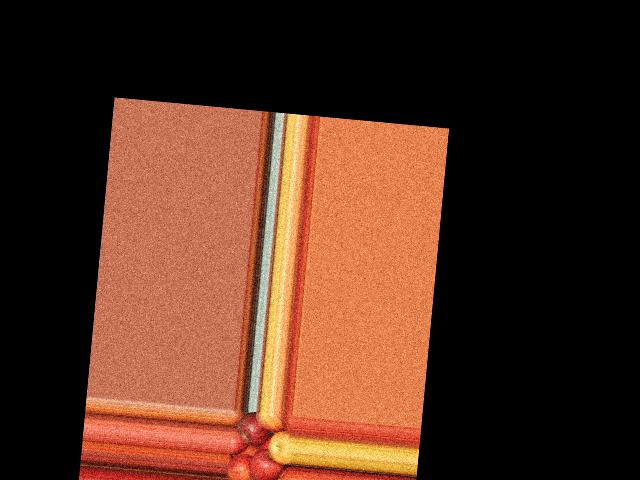apple: (227, 450, 258, 480)
